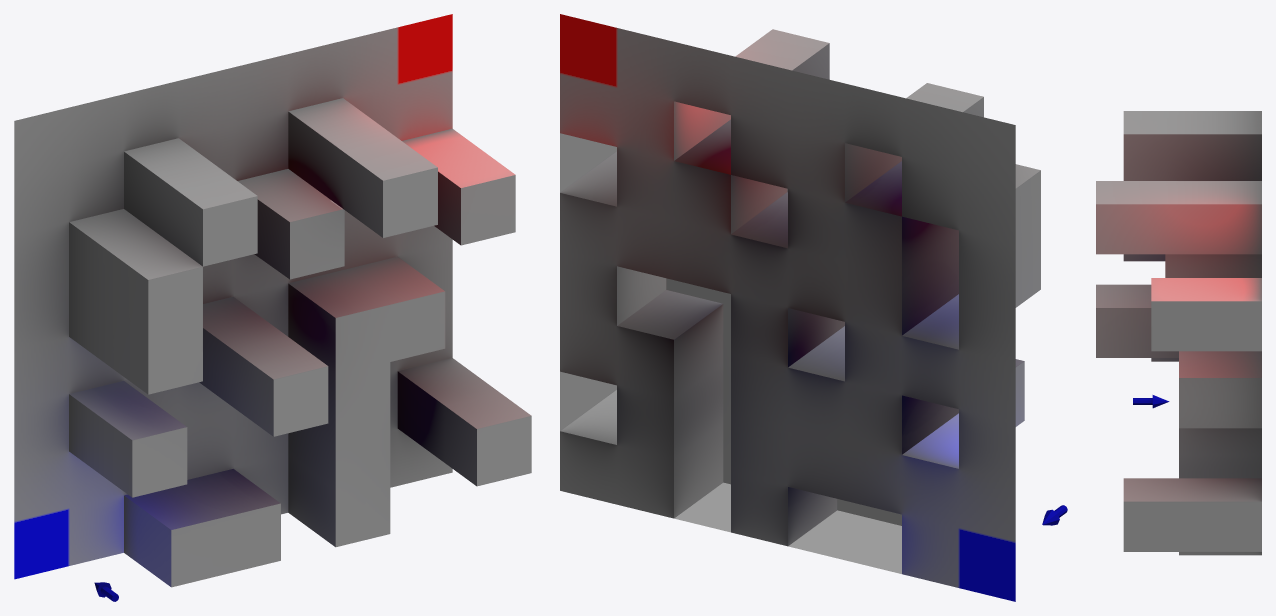
The model's file is maze.obj.
3 renders of one model, left to right at view 1: azimuth 30°, elevation 25°; view 2: azimuth 150°, elevation 25°; view 3: azimuth 270°, elevation 25°, orthographic. The views are drawn at different scales.
Parts seen in each view (by area): view 1: maze; view 2: maze; view 3: maze, player.
Boxes of the visible parts, x1=… form: maze: x1=14, y1=14, x2=531, y2=587; maze: x1=560, y1=14, x2=1040, y2=601; maze: x1=1096, y1=111, x2=1261, y2=555; player: x1=1133, y1=395, x2=1169, y2=408.
Bounding box in the file's own units: 24 × 24 × 9.
